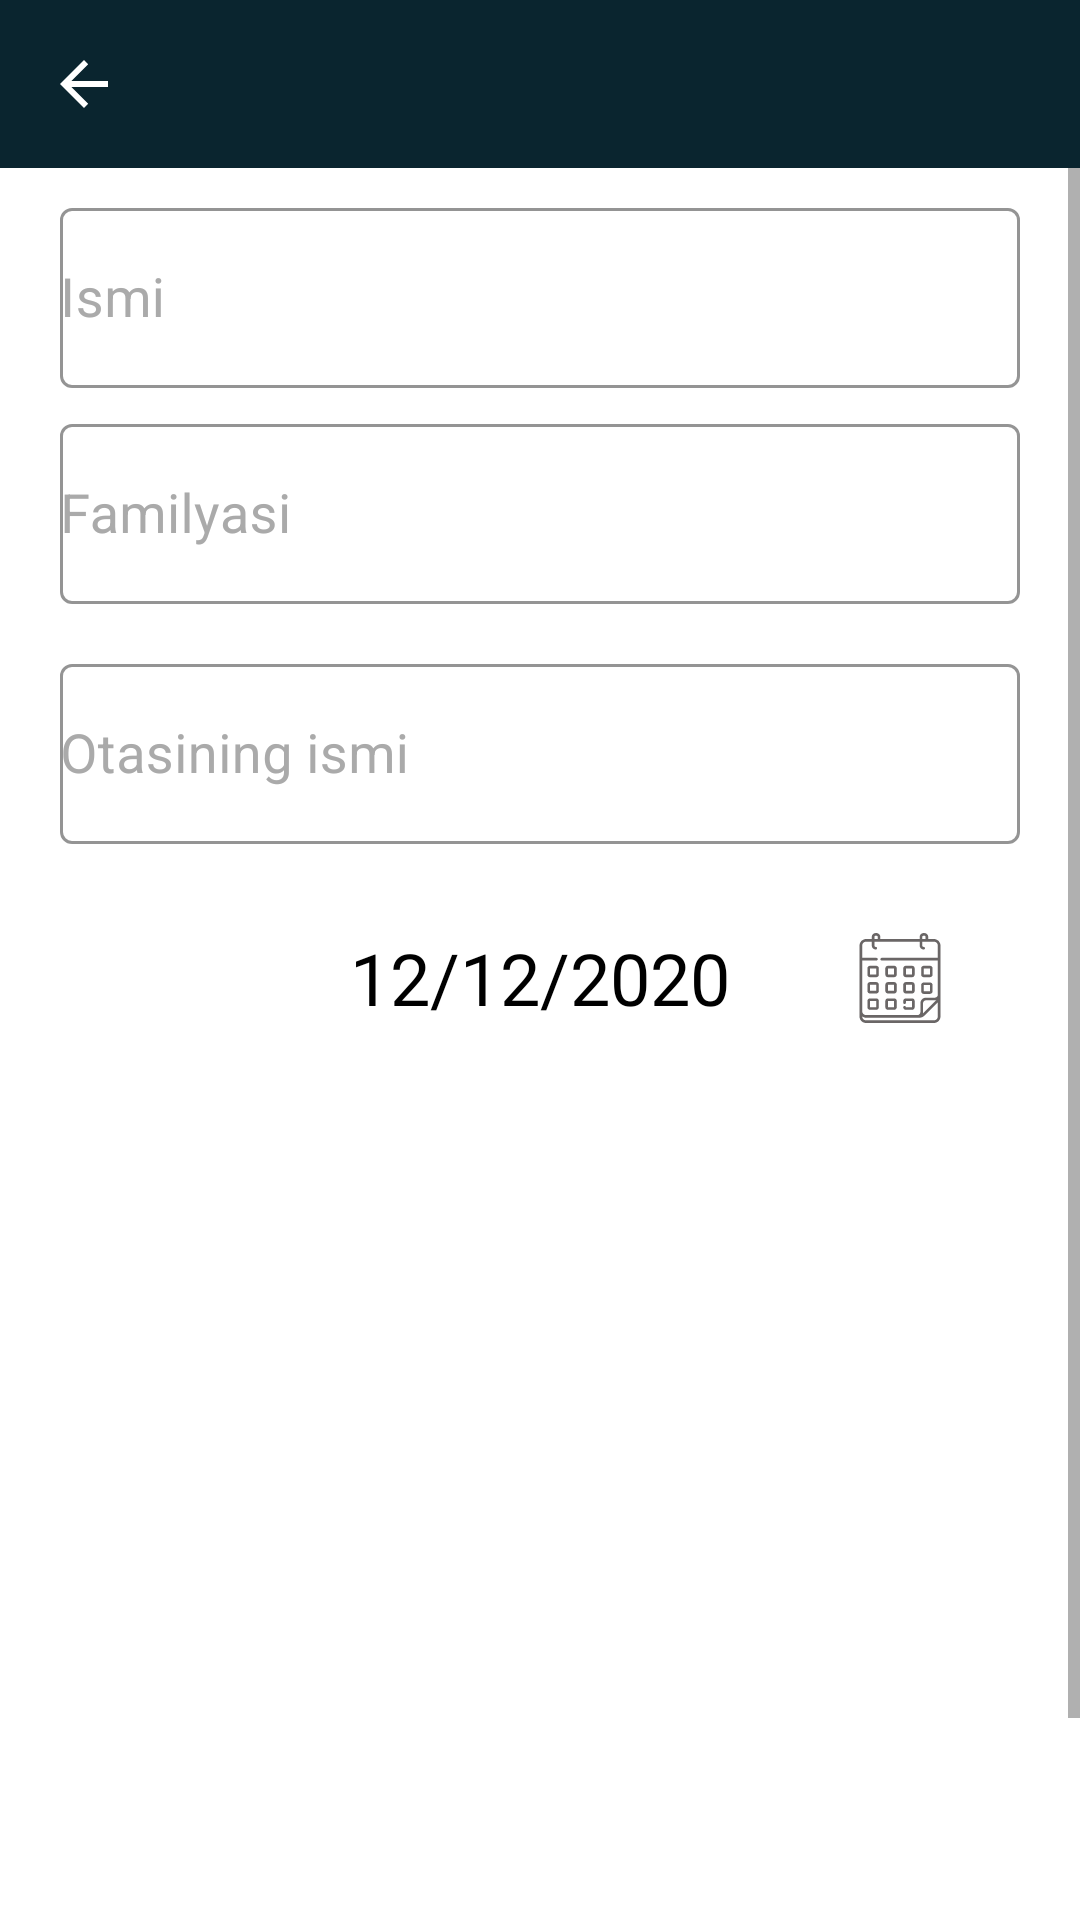

Icons on this 1080*1920 Android screen, each with the point to tap as (x=x, y=y):
calendar: (x=900, y=978)
